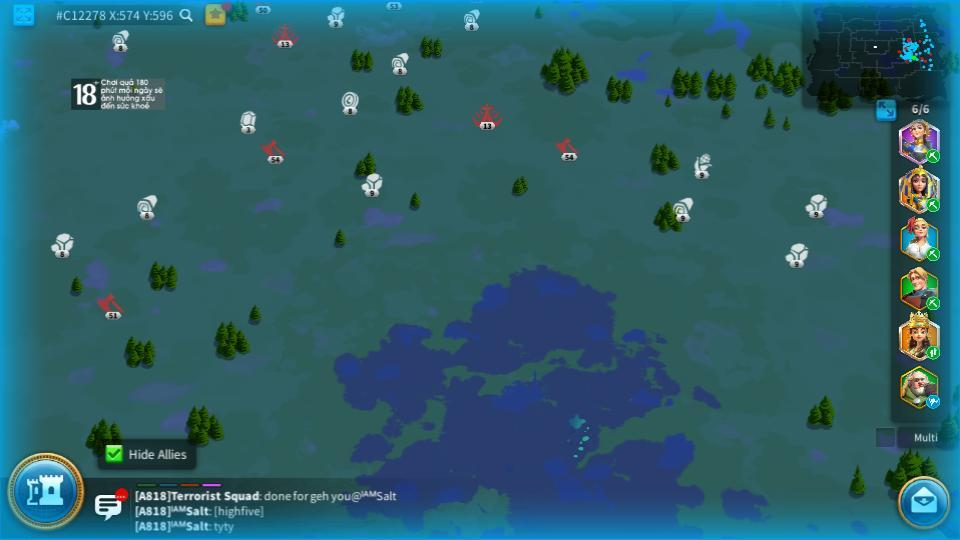gem-z-out: (238, 110, 257, 132)
march_farming: (926, 297, 941, 308)
march_idle: (925, 396, 942, 408)
march_marching: (925, 197, 941, 212), (925, 345, 941, 359)
